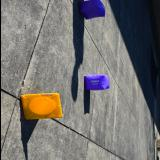cone: (19, 93, 62, 120)
cube: (78, 0, 105, 20), (83, 74, 109, 90)
